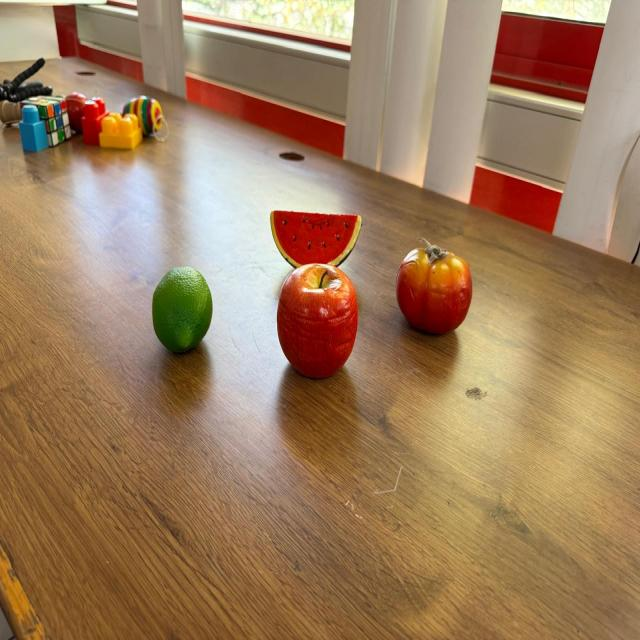apple: (276, 262, 359, 381)
lemon: (152, 265, 212, 353)
tomato: (395, 237, 473, 336)
watermelon: (271, 210, 361, 267)
